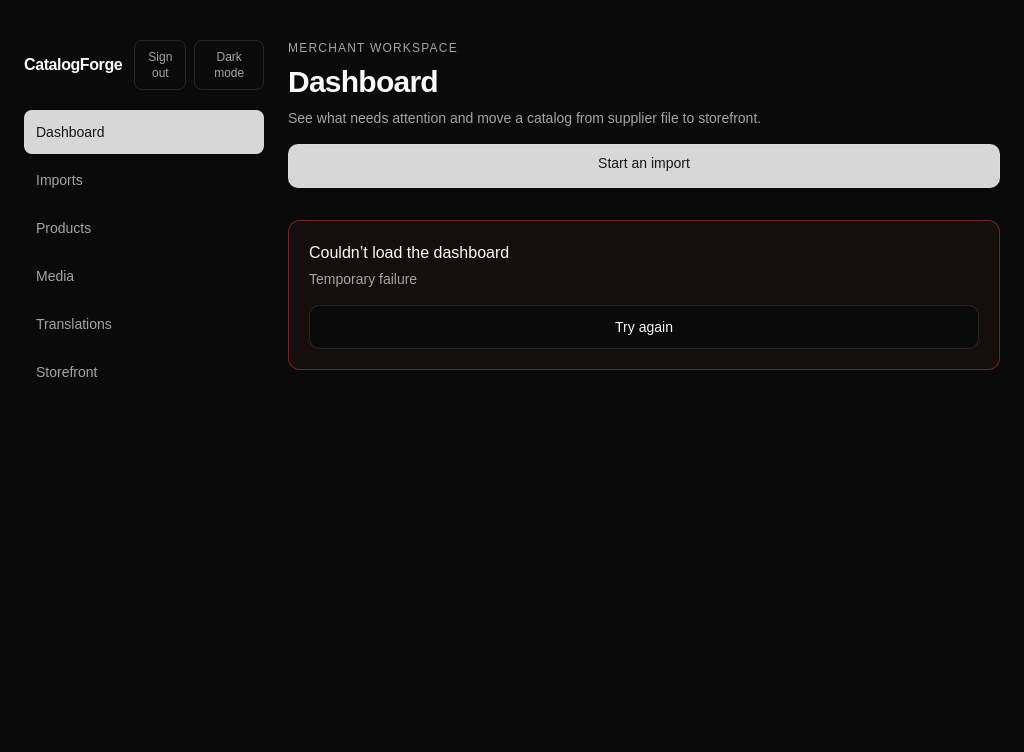
Test: recovers from a dashboard error without keeping the error screen after a successful retry
Expected: the message "Couldn’t load the dashboard Temporary failure Try again" is shown, top-left (288, 220), bottom-right (1000, 370)
Click the button "Try again": x=644, y=327 top-left (309, 305), bottom-right (979, 349)
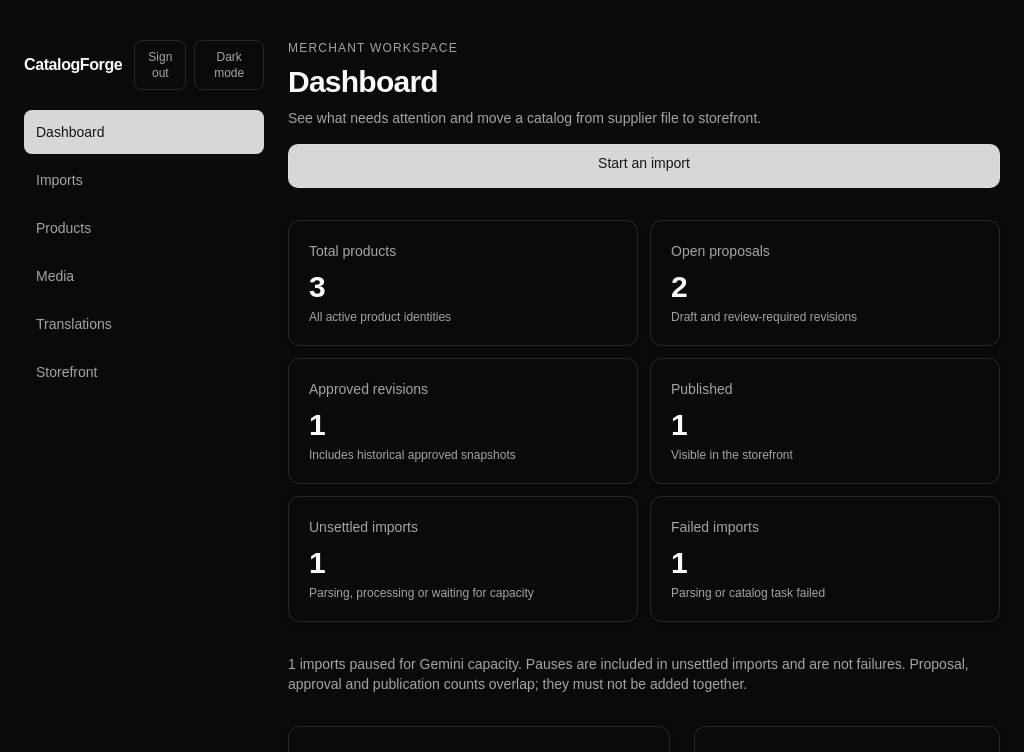
Expected: the element named "Catalog KPIs" is shown, top-left (288, 220), bottom-right (1000, 622)
Expected: the message "Couldn’t load the dashboard Temporary failure Try again" is gone
